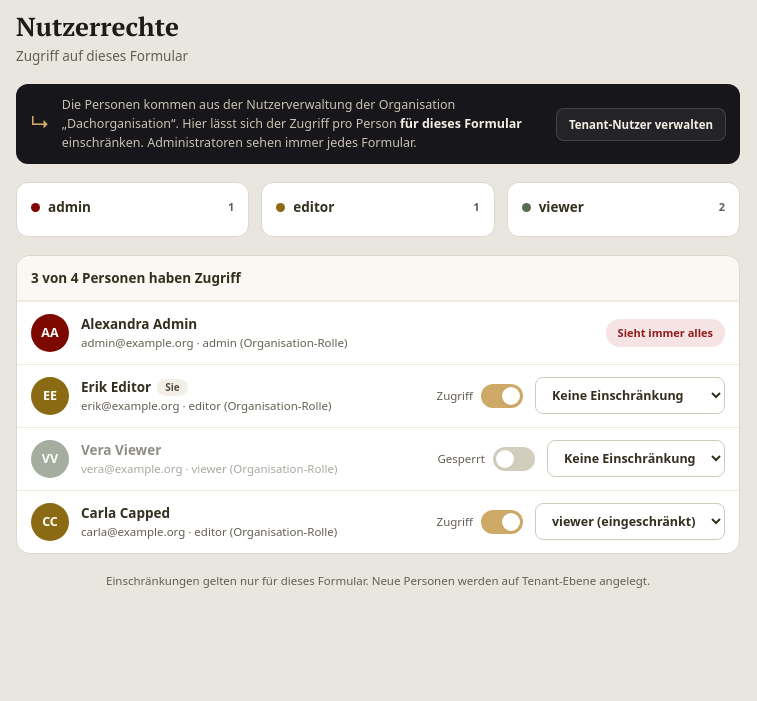
Nutzerrechte je Formular › keeps a row’s edit made while its save was in flight
Expected: the text "Vera Viewer" is shown, [81,440,161,460]
What coordinates should you click on to do the following:
click the switch labelled "Gesperrt"
I would click on:
 (486, 459)
Its box is [437,447,535,471].
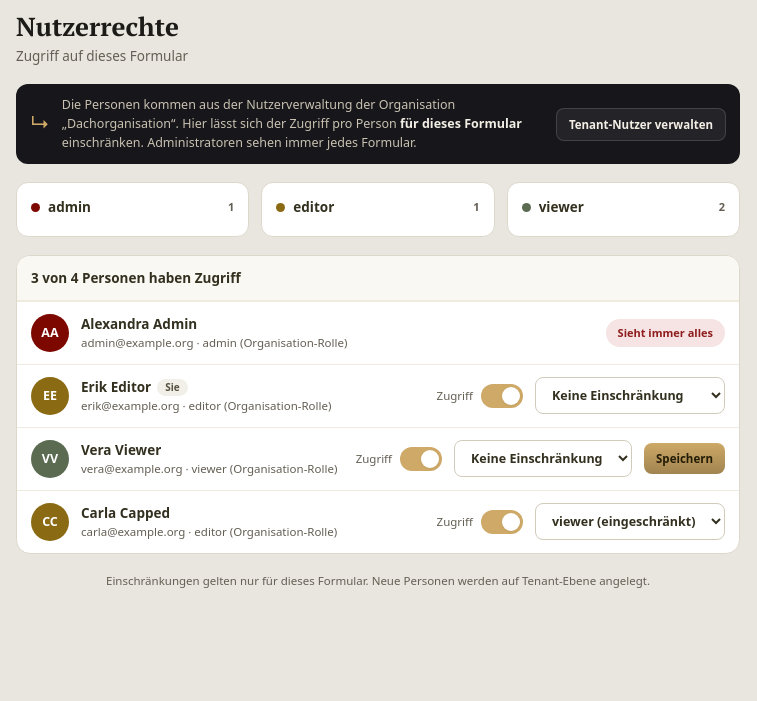
What coordinates should you click on to do the following:
click the button "Speichern"
I would click on:
 (684, 459)
Its box is [644,443,725,474].
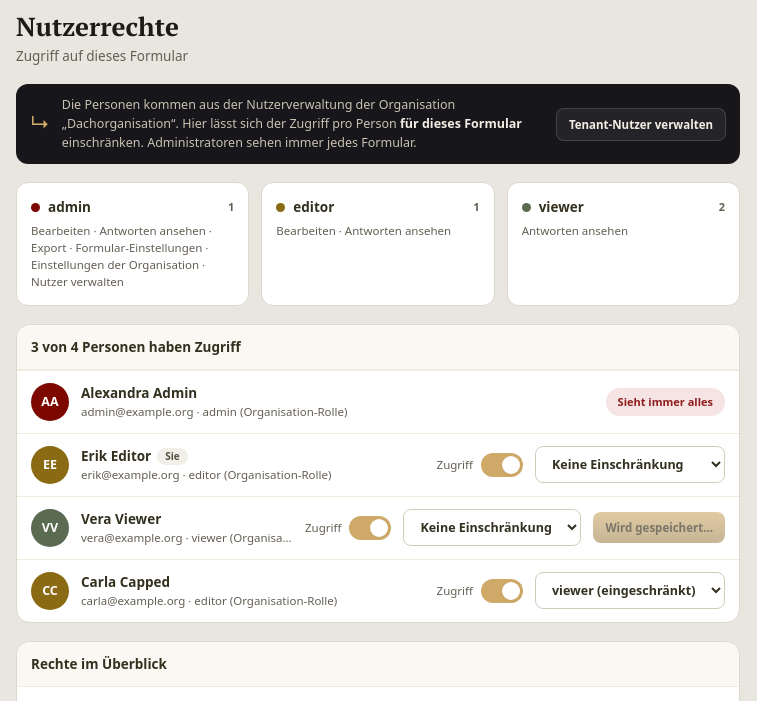
Now the button "Wird gespeichert…" is shown, box [593,512,725,543]
Locked back out while the save is still on its way.
What coordinates should you click on to do the following:
click the switch labelled "Zugriff" in the row of "VV"
I would click on:
 (348, 528)
Its box is [305,516,391,540].
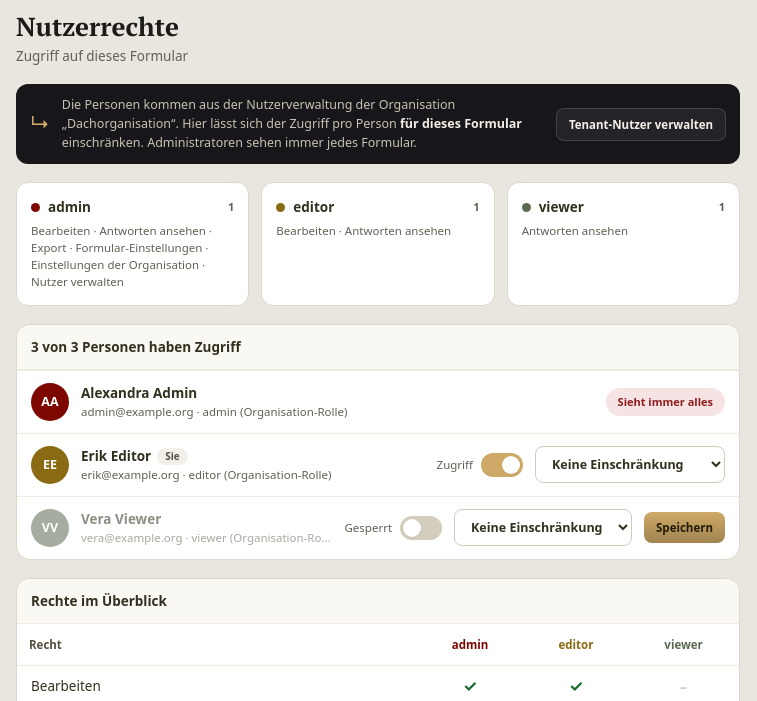
Now the switch labelled "Gesperrt" is not checked, box [344,516,442,540]
Now the button "Wird gespeichert…" is gone
